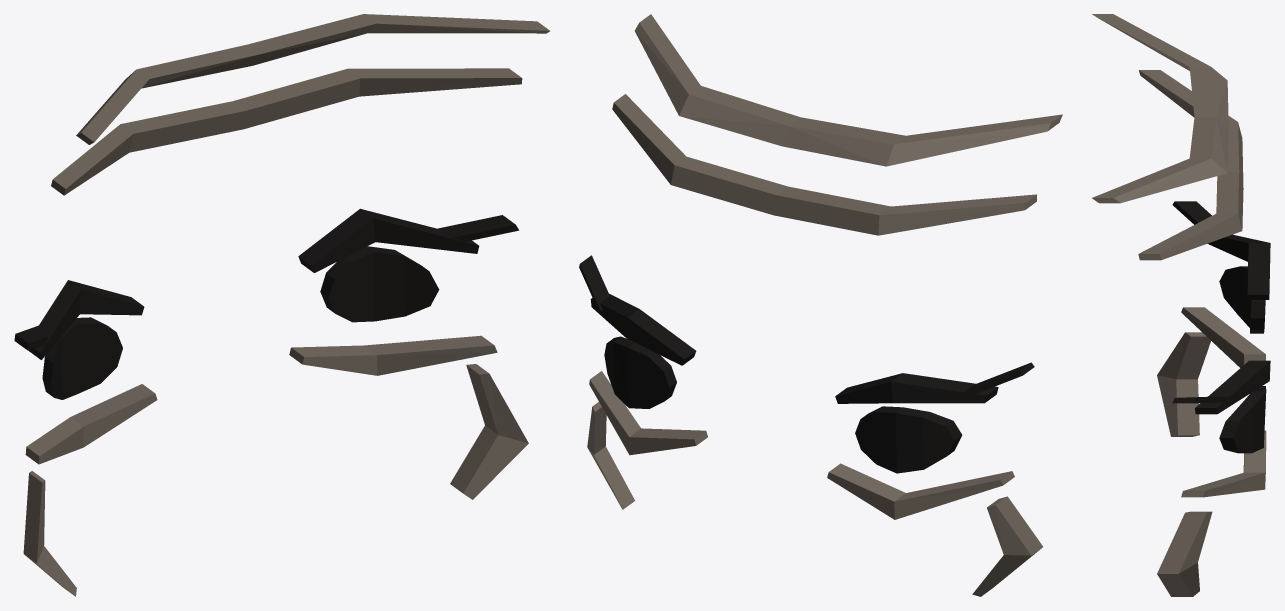
Rendered from leathery_female_face.obj.
3 renders of one model, left to right at view 1: azimuth 30°, elevation 25°; view 2: azimuth 150°, elevation 25°; view 3: azimuth 270°, elevation 25°, orthographic. The views are drawn at different scales.
Parts seen in each view (by area): view 1: leathery_female_face; view 2: leathery_female_face; view 3: leathery_female_face.
Part boxes in pixels (x1,y1,x2,y2): leathery_female_face: (14, 14, 549, 596); leathery_female_face: (579, 14, 1062, 596); leathery_female_face: (1092, 14, 1270, 596).
Size of the model in its own units: 0.3017 by 0.2911 by 0.1151.
